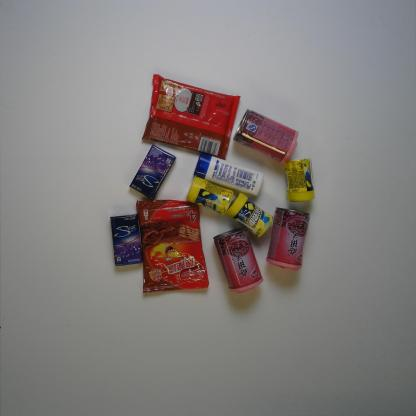Canned Food: (232, 108, 302, 165), (212, 225, 264, 295), (264, 205, 312, 273)
Dessert: (139, 73, 241, 162), (134, 196, 211, 297)
Gum: (127, 143, 178, 201), (224, 192, 275, 238), (186, 174, 235, 216), (108, 211, 144, 266), (283, 156, 316, 204)
Personal Hygiene: (191, 150, 266, 198)
